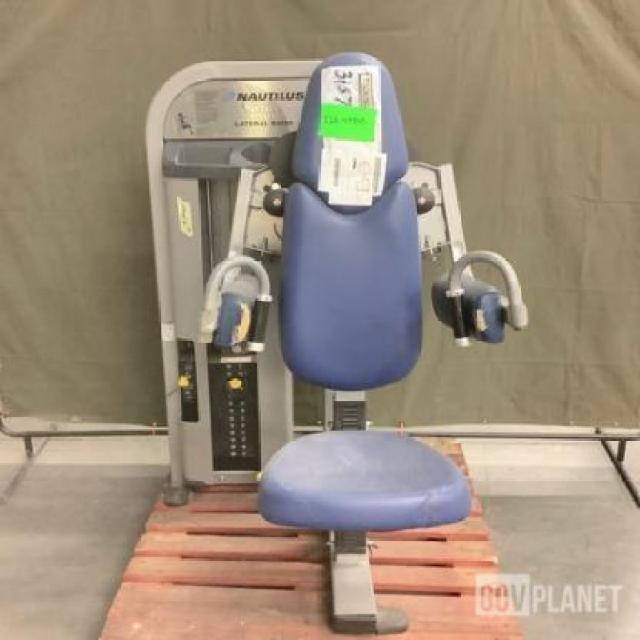lateral raises machine: (143, 51, 532, 563)
